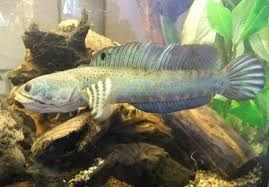Snakehead: (14, 40, 266, 119)
